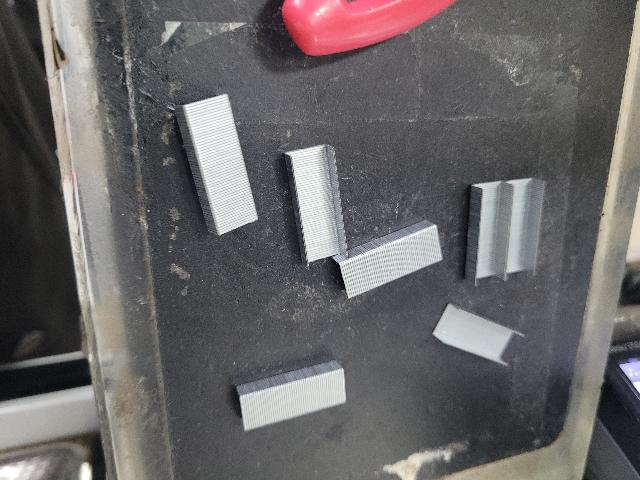Metal: (171, 92, 267, 240), (232, 356, 355, 435), (337, 219, 444, 301), (283, 140, 350, 266), (469, 175, 544, 279), (429, 299, 525, 375)
